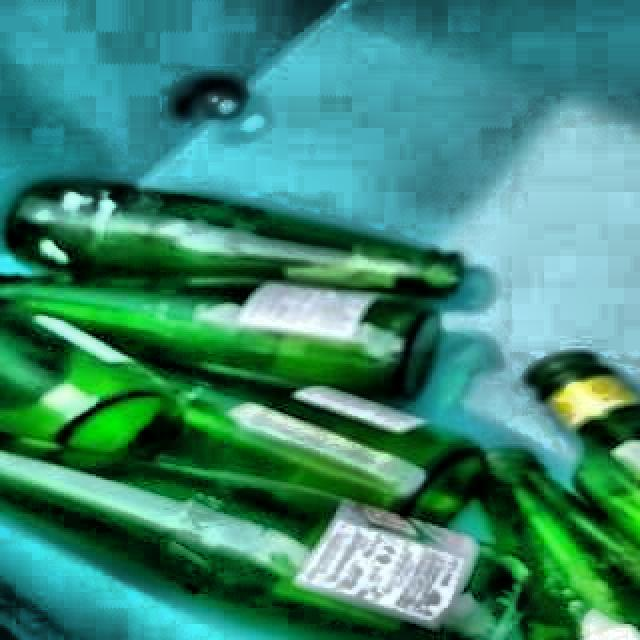glass: (0, 180, 640, 640)
